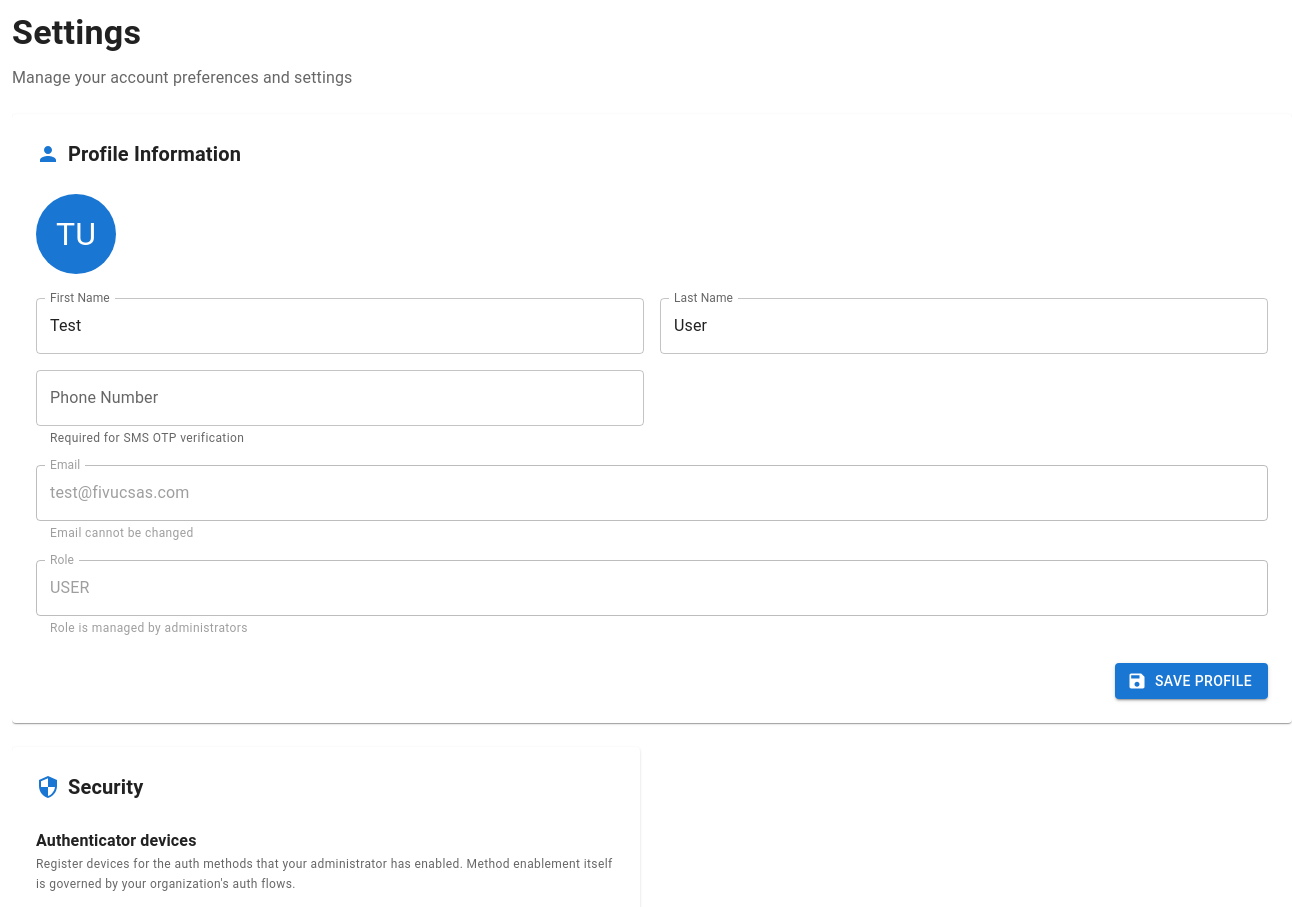
Test: SettingsPage — phone E.164 wiring › auto-prepends +90 as the user types a plain Turkish number
In the field with placeholder "+90 5XX XXX XX XX": (340,398) top-left (36, 370), bottom-right (644, 426), type "5551234567"
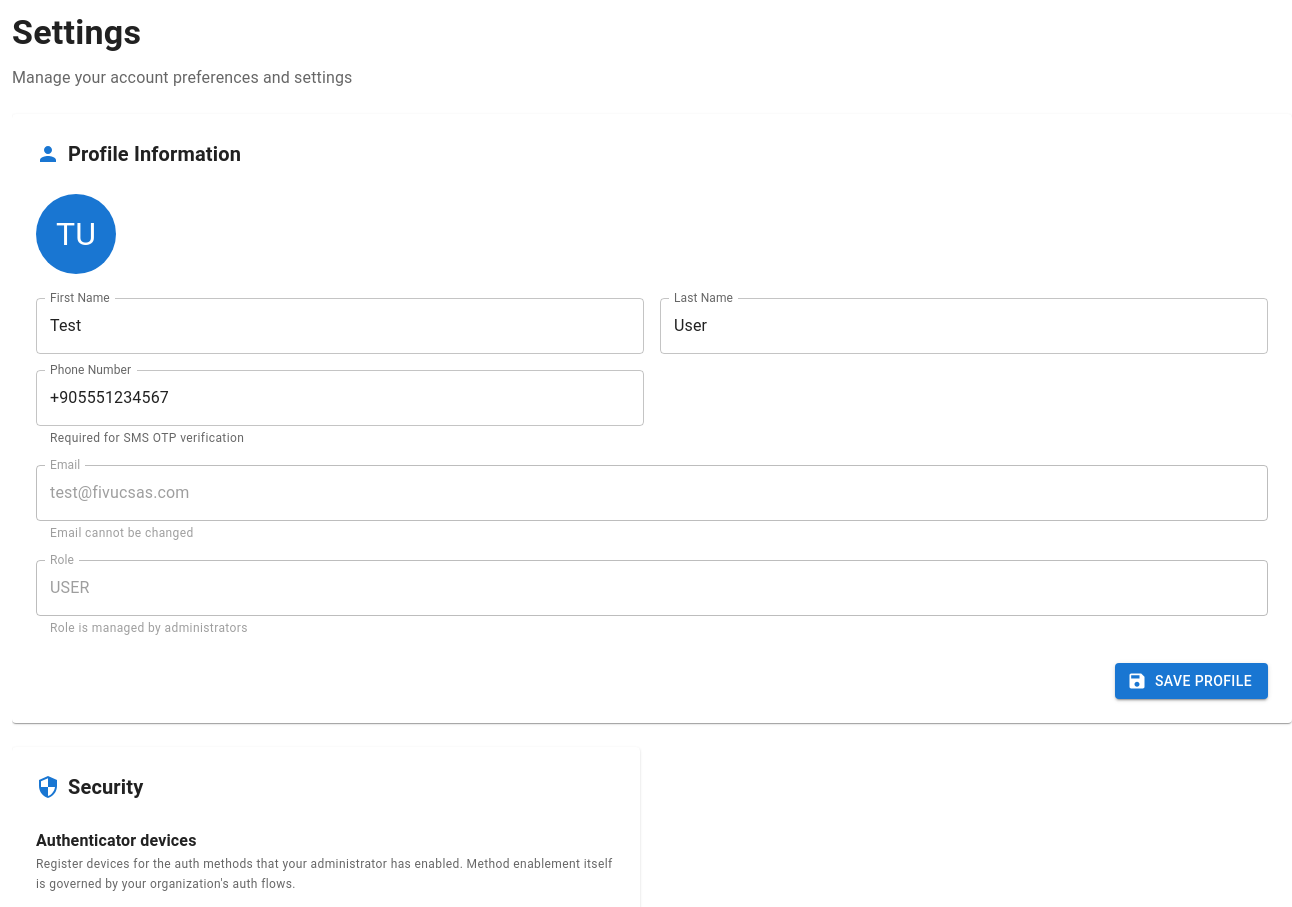
expect the field with placeholder "+90 5XX XXX XX XX" holds "+905551234567": met, box top-left (36, 370), bottom-right (644, 426)
